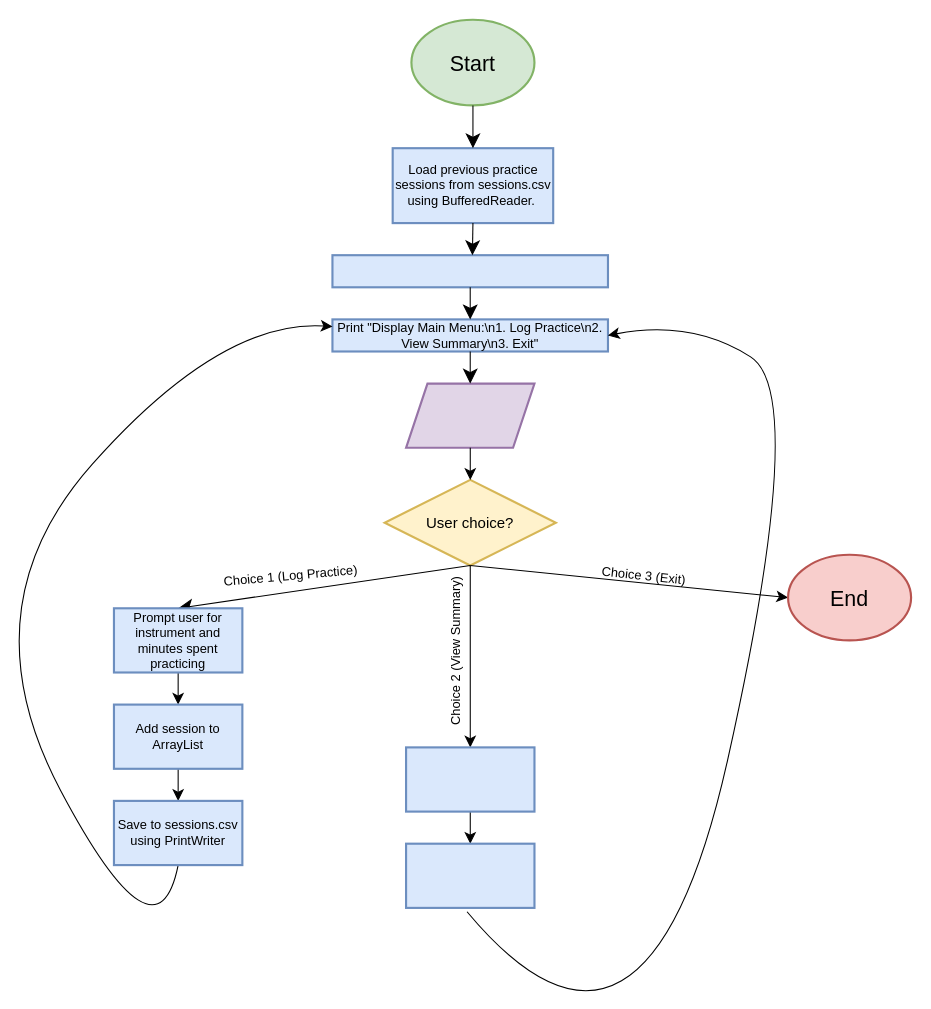
Some shapes in this 931 by 1009 pixel diagram are drawn without their labels. Each missing label, with the box of its shape:
Calculate total hours and total practice sessions from ArrayList: (404, 746, 535, 812)
Display the summary in the terminal: (404, 842, 535, 908)
Get user choice by using Scanner.: (404, 382, 535, 448)
Print "Welcome to the Music Practice Tracker!": (331, 254, 609, 288)
